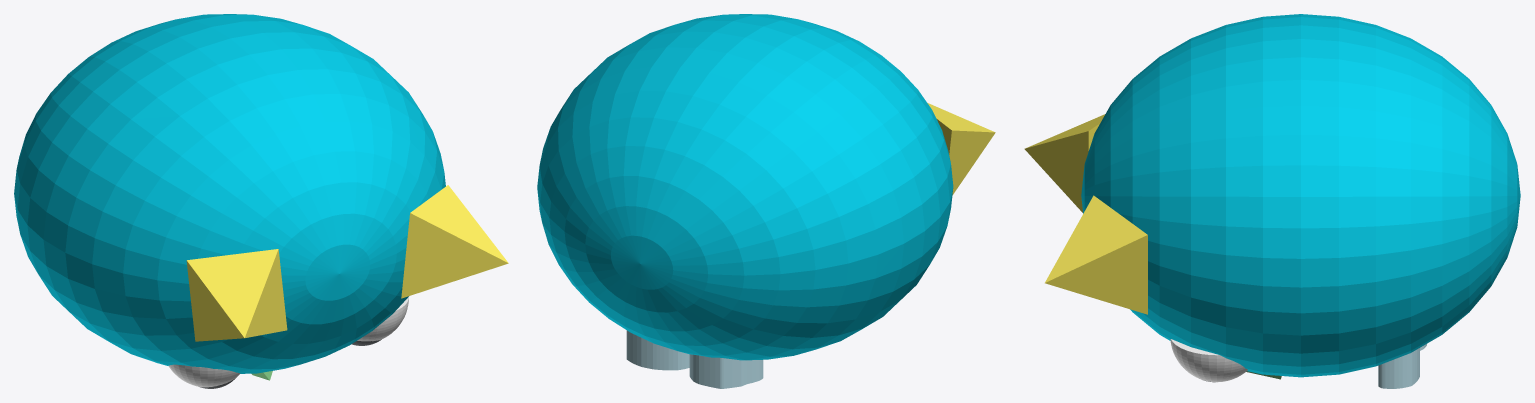
File: Madison.gltf
3 views of the same model, side by side, from view 1: azimuth 30°, elevation 25°; view 2: azimuth 150°, elevation 25°; view 3: azimuth 270°, elevation 25° (orthographic). The views are drawn at different scales.
Visible parts, largest first — view 1: group_0_40919, group_0_16768282, group_0_16448250; view 2: group_0_40919, group_0_8768998, group_0_16768282; view 3: group_0_40919, group_0_16768282, group_0_16448250, group_0_8768998.
Part boxes in pixels (bbox=[...]): group_0_40919: bbox=[14, 14, 445, 373]; group_0_16768282: bbox=[186, 185, 508, 341]; group_0_16448250: bbox=[168, 297, 408, 387]; group_0_40919: bbox=[537, 14, 953, 360]; group_0_8768998: bbox=[626, 330, 763, 388]; group_0_16768282: bbox=[927, 103, 995, 195]; group_0_40919: bbox=[1081, 14, 1520, 377]; group_0_16768282: bbox=[1024, 114, 1147, 314]; group_0_16448250: bbox=[1170, 339, 1247, 382]; group_0_8768998: bbox=[1378, 344, 1426, 388].
Bounding box in the file's own units: 93 × 79 × 106.
